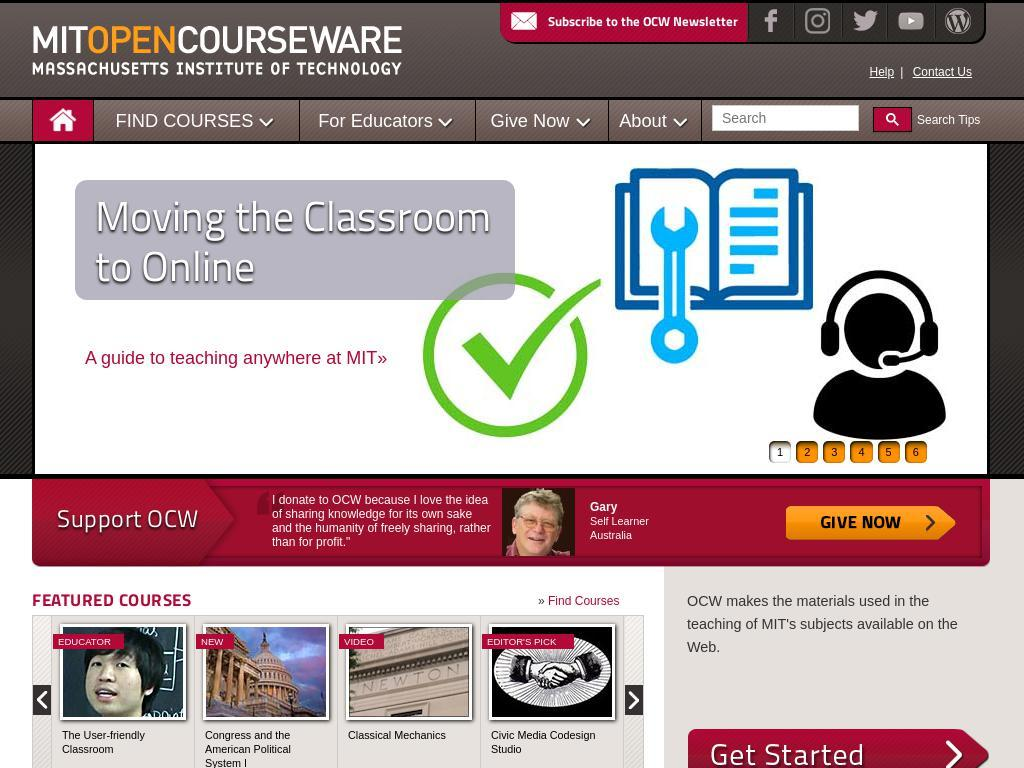button: (873, 107, 912, 132), (917, 113, 980, 127), (850, 441, 874, 463), (769, 441, 792, 463), (796, 441, 819, 463), (823, 441, 846, 463), (877, 441, 900, 463), (904, 441, 927, 463)
field: (722, 111, 845, 126)
heading: (32, 587, 652, 613)
image: (32, 18, 406, 78), (687, 728, 989, 768), (60, 624, 180, 714), (203, 624, 323, 714), (346, 624, 466, 714), (489, 624, 609, 714), (632, 624, 752, 714), (775, 624, 895, 714), (918, 624, 1024, 714), (785, 505, 957, 541), (502, 488, 575, 556), (0, 624, 37, 714), (934, 4, 980, 38), (793, 4, 838, 38), (841, 4, 886, 38), (886, 4, 931, 38), (747, 4, 790, 38), (48, 108, 78, 133), (508, 12, 538, 33), (886, 113, 899, 126)
link: (85, 348, 387, 368), (205, 729, 291, 768), (634, 729, 743, 755), (491, 729, 595, 755), (318, 110, 434, 131), (62, 729, 145, 755), (777, 729, 898, 741), (348, 729, 446, 741), (548, 594, 620, 608), (912, 65, 972, 79), (920, 729, 986, 741), (869, 65, 895, 79), (0, 729, 11, 755)
text: (75, 180, 515, 300), (687, 567, 973, 659), (272, 493, 492, 549), (0, 144, 35, 476), (57, 500, 262, 536), (548, 11, 738, 31), (590, 515, 649, 527), (590, 529, 632, 541), (590, 500, 617, 514), (538, 594, 545, 608), (854, 106, 858, 130), (858, 446, 866, 458), (804, 446, 811, 458), (831, 446, 838, 458), (885, 446, 892, 458), (912, 446, 919, 458), (777, 446, 783, 458)
